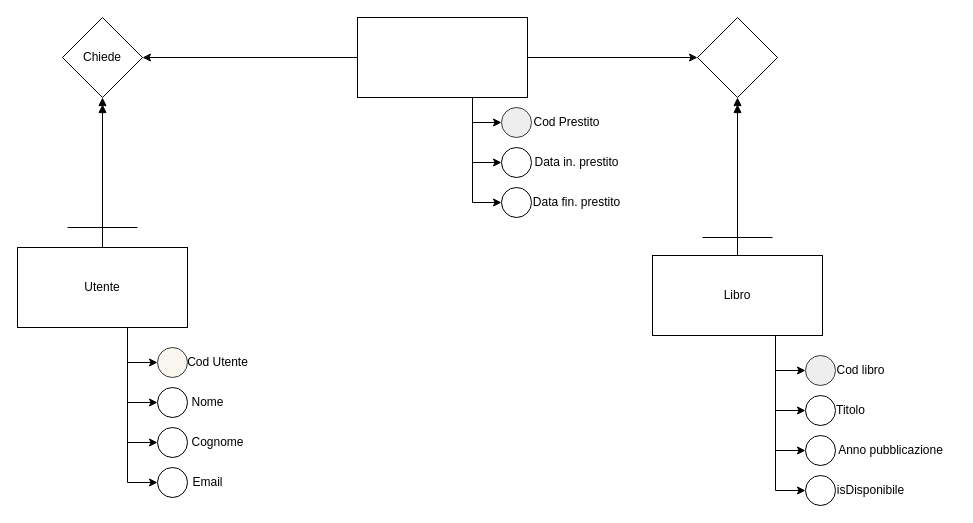
This 973x523 diagram has some shape labels left out. Here are the shapes that lost their labels. From the top down, the box of each, then its label:
(356, 16, 528, 98): Prestito
(696, 16, 778, 98): Ceduto
